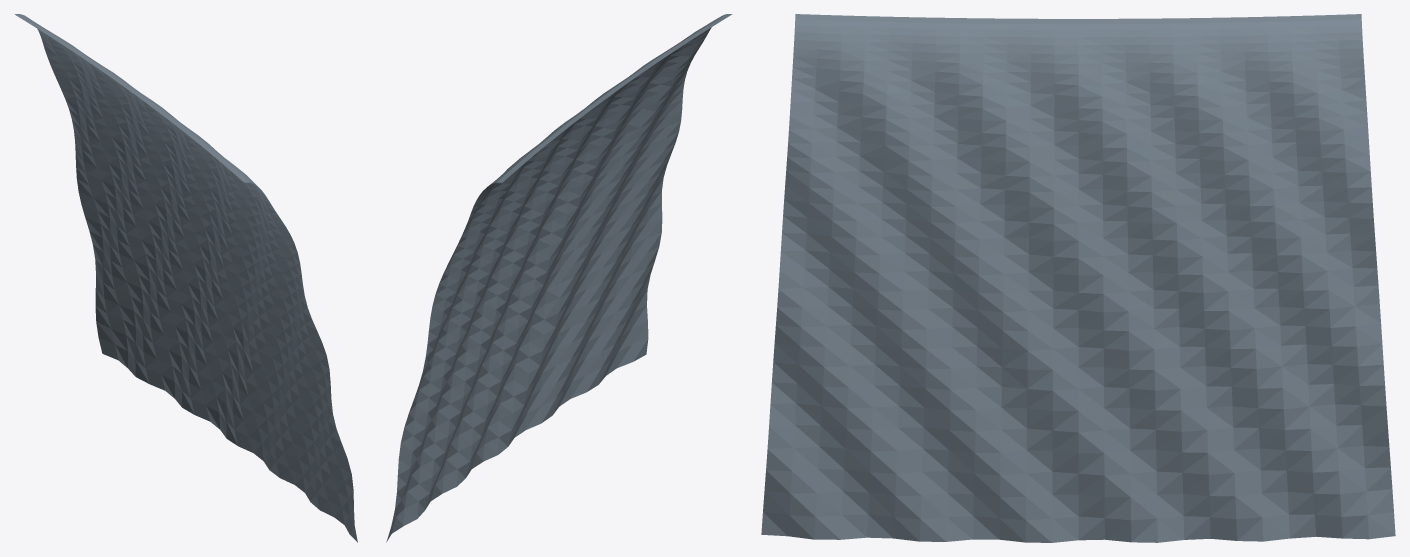
The model's file is SM_Env_S_Waterfall.fbx.
3 renders of one model, left to right at view 1: azimuth 30°, elevation 25°; view 2: azimuth 150°, elevation 25°; view 3: azimuth 270°, elevation 25°, orthographic. The views are drawn at different scales.
Parts seen in each view (by area): view 1: SM_Env_S_Waterfall; view 2: SM_Env_S_Waterfall; view 3: SM_Env_S_Waterfall.
Boxes of the visible parts, x1,y1,x2,y2 form: SM_Env_S_Waterfall: (14, 14, 357, 542); SM_Env_S_Waterfall: (386, 14, 732, 542); SM_Env_S_Waterfall: (761, 14, 1395, 542).
Size of the model in its own units: 55.23 by 217 by 174.
